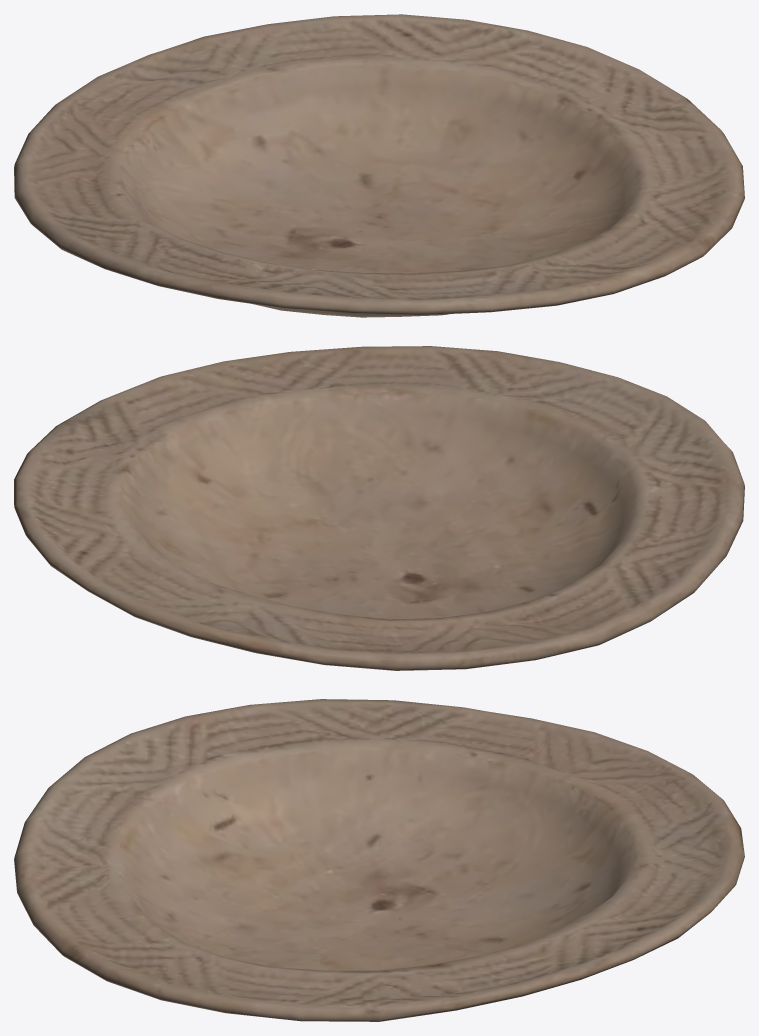
Rendered from carved_wooden_plate.glb.
3 renders of one model, top to bottom at view 1: azimuth 30°, elevation 25°; view 2: azimuth 150°, elevation 25°; view 3: azimuth 270°, elevation 25°, orthographic. The views are drawn at different scales.
Parts seen in each view (by area): view 1: carved_wooden_plate; view 2: carved_wooden_plate; view 3: carved_wooden_plate.
Part boxes in pixels (bbox=[...]): carved_wooden_plate: bbox=[14, 14, 744, 317]; carved_wooden_plate: bbox=[14, 346, 744, 670]; carved_wooden_plate: bbox=[14, 699, 744, 1021].
Size of the model in its own units: 0.2718 by 0.0381 by 0.2688.
Materials: 1 (1 with a texture image).
